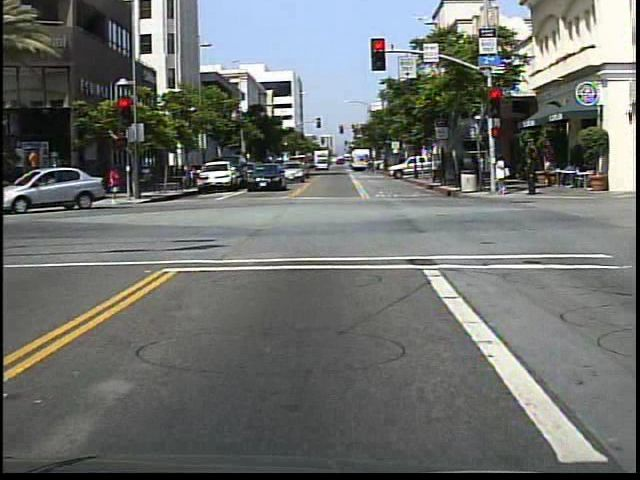person: (493, 152, 511, 202), (522, 149, 541, 196), (110, 165, 122, 206)
